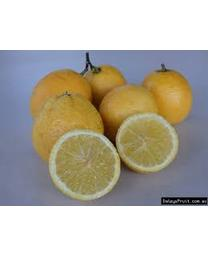lemon: (49, 128, 122, 201), (33, 92, 106, 162), (117, 111, 182, 173), (99, 84, 158, 137), (31, 70, 94, 117), (143, 69, 193, 123)
